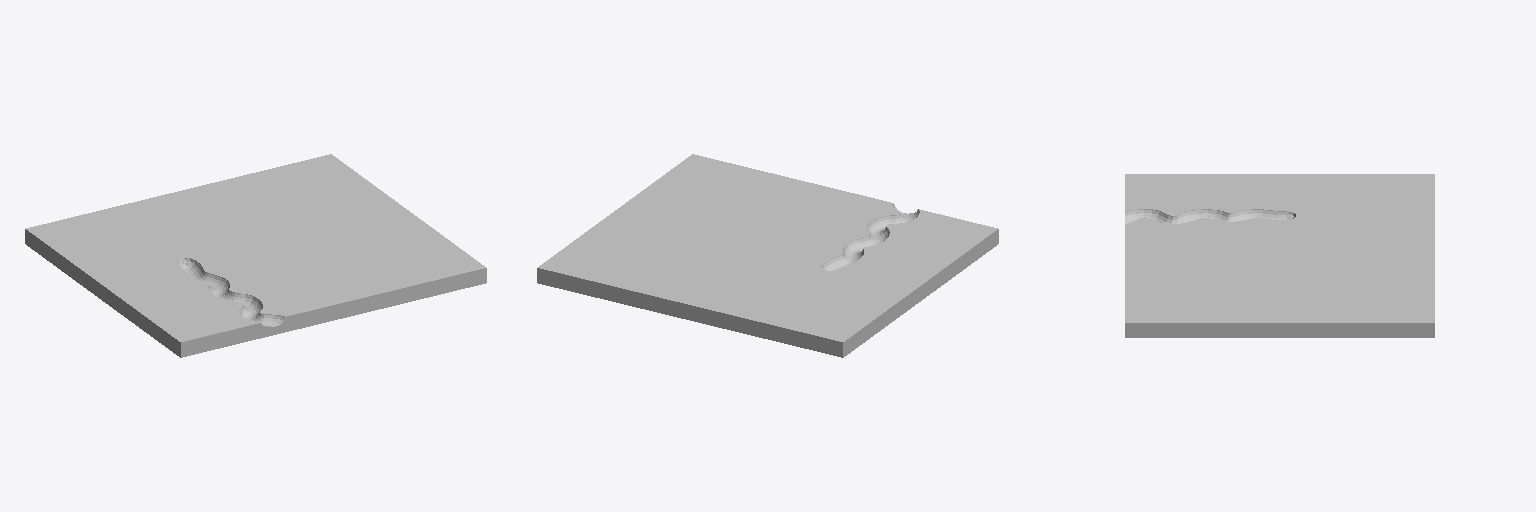
Rendered from Floor.obj.
3 views of the same model, side by side, from view 1: azimuth 30°, elevation 25°; view 2: azimuth 150°, elevation 25°; view 3: azimuth 270°, elevation 25° (orthographic).
Parts seen in each view (by area): view 1: Floor.001_Mesh; view 2: Floor.001_Mesh; view 3: Floor.001_Mesh.
Boxes of the visible parts, box(x1,y1,x2,y2) form: Floor.001_Mesh: box(25, 154, 486, 357); Floor.001_Mesh: box(537, 154, 998, 357); Floor.001_Mesh: box(1125, 174, 1434, 337).
Bounding box in the file's own units: 62.67 × 3.04 × 55.11.